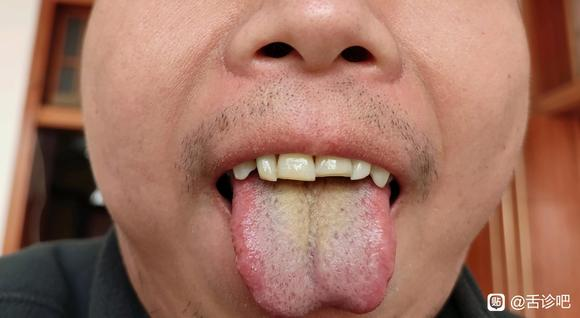hongshe: (232, 169, 395, 318)
huangtaishe: (232, 169, 395, 318)
